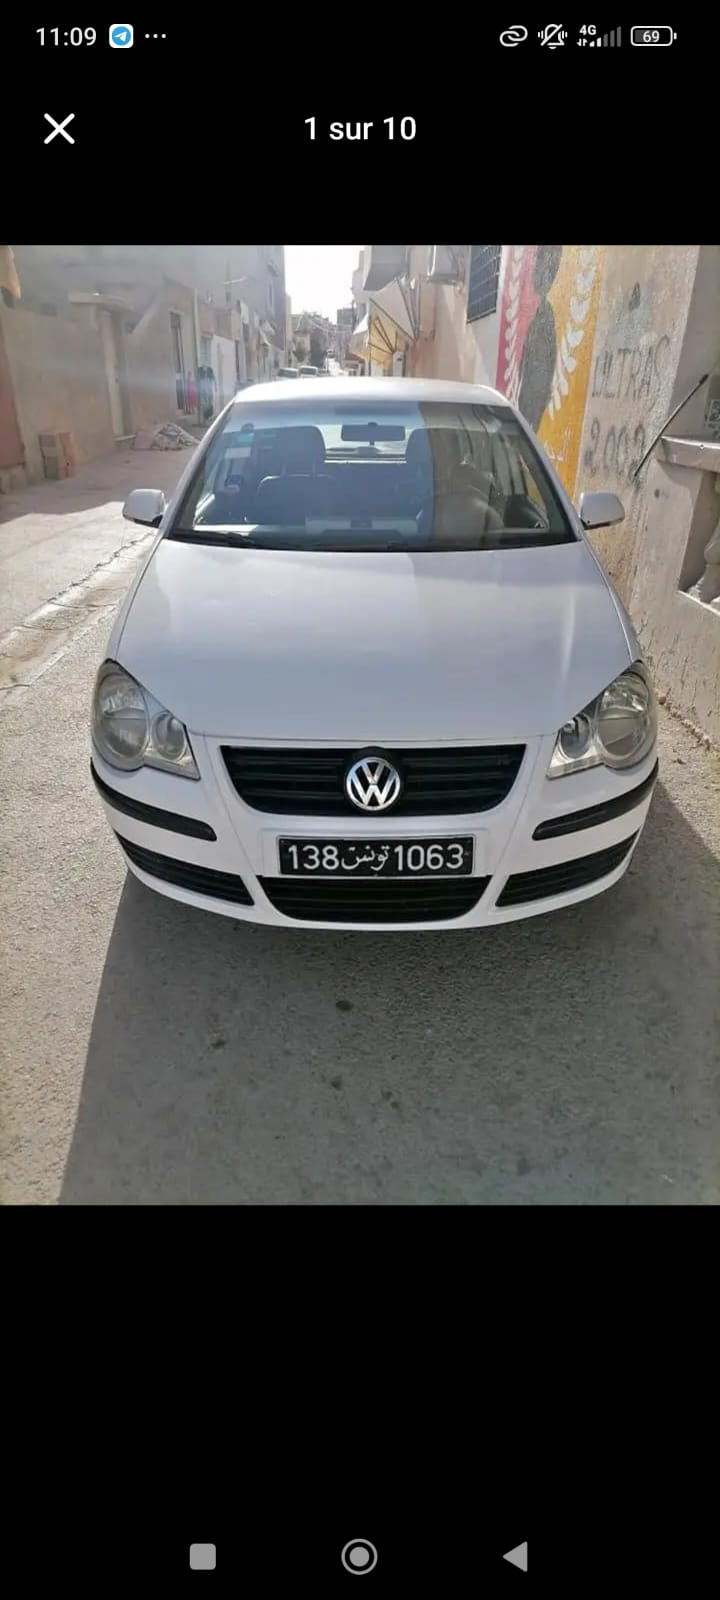citroen: (85, 365, 680, 945)
